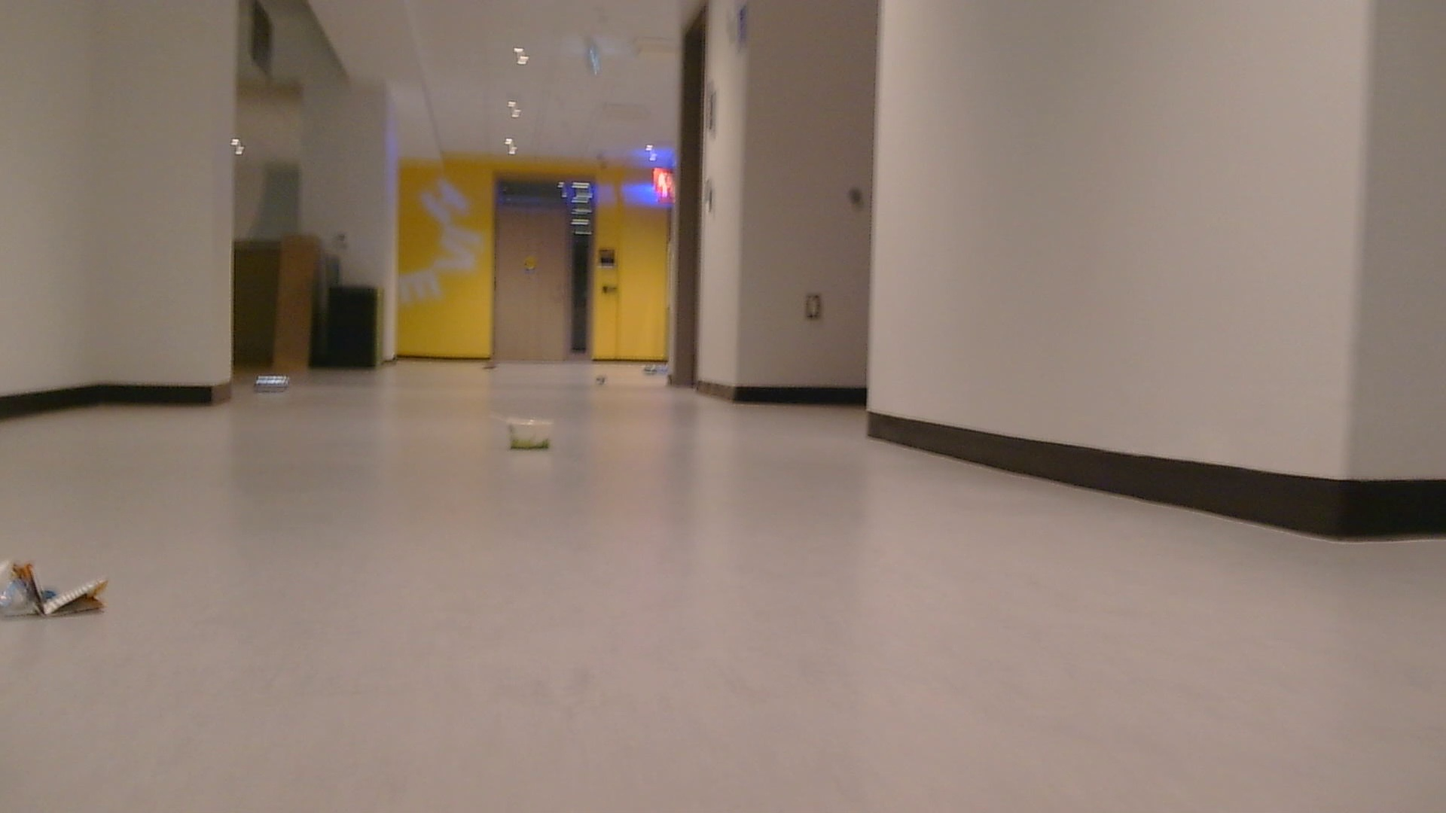carton: (0, 544, 122, 636), (496, 408, 567, 461), (256, 372, 312, 404), (643, 360, 683, 376), (589, 370, 613, 393), (477, 358, 506, 371)
